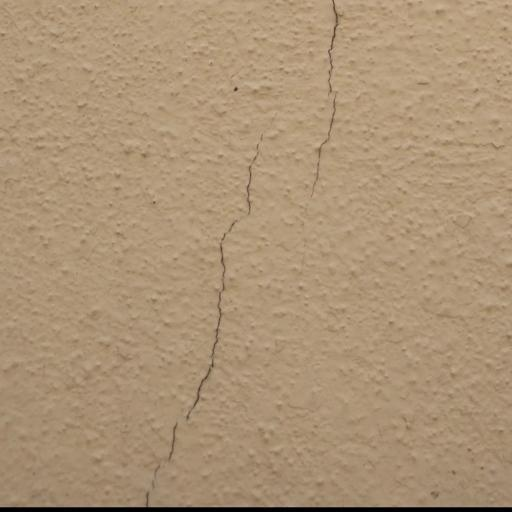minor_crack: (138, 123, 266, 512), (302, 0, 345, 281)
